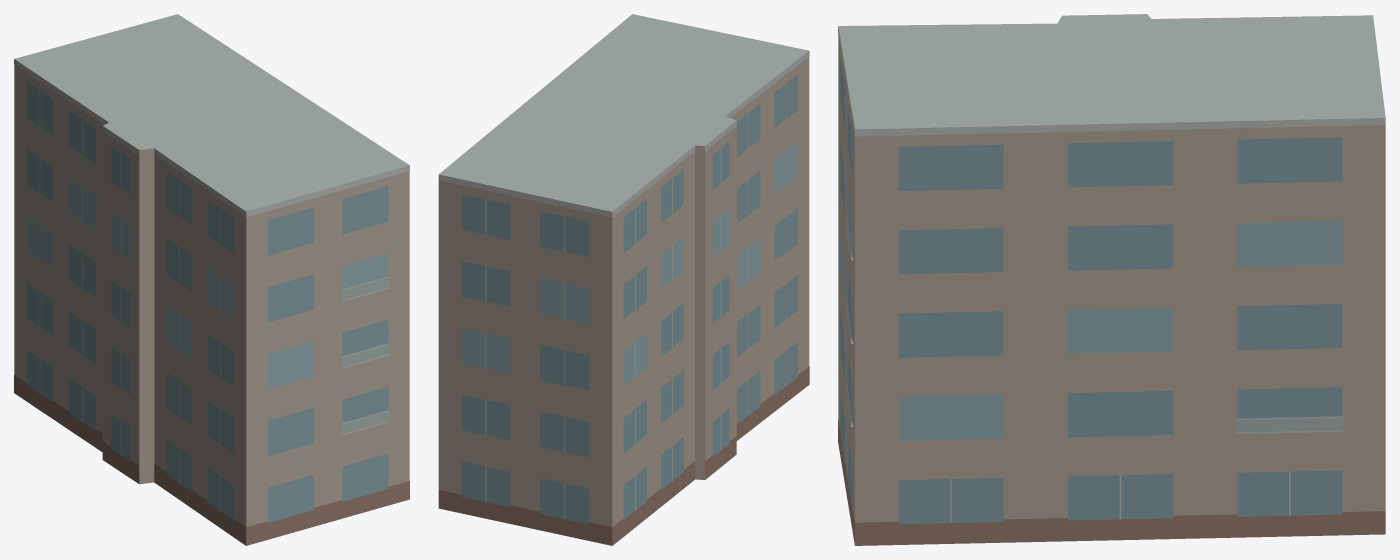
Rendered from survey-upis-32968357.glb.
3 renders of one model, left to right at view 1: azimuth 30°, elevation 25°; view 2: azimuth 150°, elevation 25°; view 3: azimuth 270°, elevation 25°, orthographic. The views are drawn at different scales.
Parts seen in each view (by area): view 1: survey-upis-32968357.tmp; view 2: survey-upis-32968357.tmp; view 3: survey-upis-32968357.tmp.
Part boxes in pixels (<box>): survey-upis-32968357.tmp: <box>14,14,409,545</box>; survey-upis-32968357.tmp: <box>438,14,809,545</box>; survey-upis-32968357.tmp: <box>838,14,1385,545</box>.
Size of the model in its own units: 8.51 by 14.3 by 17.05.
